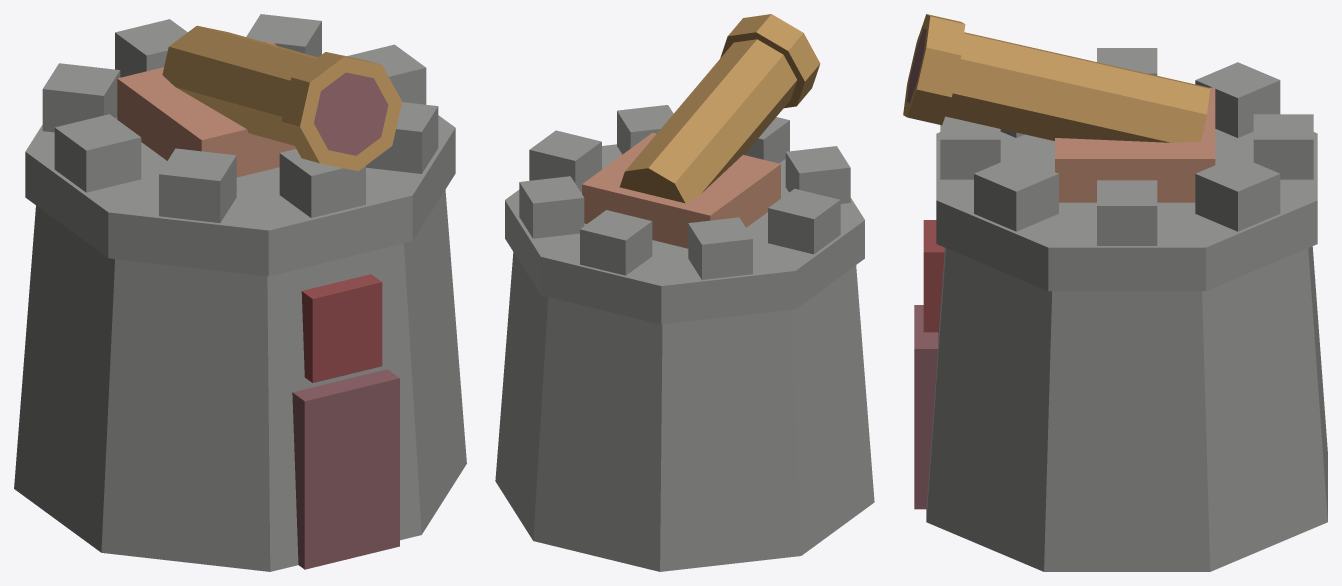
The model's file is keep.glb.
3 renders of one model, left to right at view 1: azimuth 30°, elevation 25°; view 2: azimuth 150°, elevation 25°; view 3: azimuth 270°, elevation 25°, orthographic. The views are drawn at different scales.
Parts seen in each view (by area): view 1: Drum, Parapet, Door, Muzzle, Barrel, Carriage, Banner, Mer6, Mer7, Mer0, Mer5, Mer1 (+3 smaller); view 2: Drum, Parapet, Barrel, Carriage, Mer4, Mer6, Mer3, Mer5, Muzzle, Mer2, Mer7, Mer1 (+1 smaller); view 3: Drum, Parapet, Barrel, Carriage, Mer3, Mer1, Muzzle, Mer2, Mer5, Mer4, Door, Mer0 (+2 smaller).
Part boxes in pixels (<box>): Drum: <box>14,190,466,571</box>; Parapet: <box>25,115,455,276</box>; Door: <box>292,369,399,569</box>; Muzzle: <box>281,52,402,171</box>; Barrel: <box>162,25,317,145</box>; Carriage: <box>117,41,296,177</box>; Banner: <box>301,274,382,382</box>; Mer6: <box>54,114,141,192</box>; Mer7: <box>159,148,236,222</box>; Mer0: <box>279,149,365,217</box>; Mer5: <box>42,63,120,132</box>; Mer1: <box>366,102,438,173</box>; Drum: <box>495,252,874,571</box>; Parapet: <box>505,144,864,324</box>; Barrel: <box>620,39,797,203</box>; Carriage: <box>582,132,780,248</box>; Mer4: <box>580,210,652,275</box>; Mer6: <box>768,188,840,254</box>; Mer3: <box>519,176,584,238</box>; Mer5: <box>688,217,752,279</box>; Muzzle: <box>720,14,820,108</box>; Mer2: <box>529,130,601,191</box>; Mer7: <box>785,146,850,203</box>; Mer1: <box>617,105,673,154</box>; Drum: <box>926,246,1327,571</box>; Parapet: <box>936,129,1317,291</box>; Barrel: <box>945,32,1210,142</box>; Carriage: <box>1055,87,1215,202</box>; Mer3: <box>1195,156,1280,231</box>; Mer1: <box>974,156,1058,231</box>; Muzzle: <box>903,14,965,125</box>; Mer2: <box>1097,180,1157,245</box>; Mer5: <box>1195,62,1280,137</box>; Mer4: <box>1253,114,1313,179</box>; Door: <box>914,305,937,509</box>; Mer0: <box>940,116,1000,179</box>.
Bounding box in the file's own units: 1 × 1.29 × 1.06.
